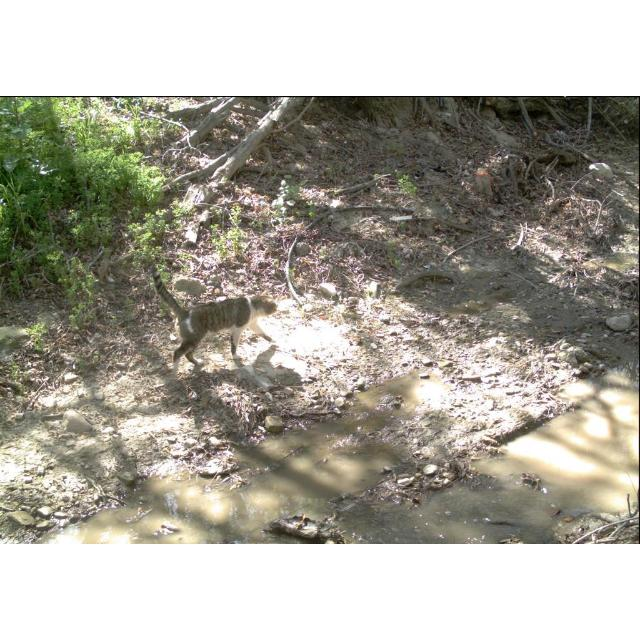animals: (150, 262, 282, 364)
